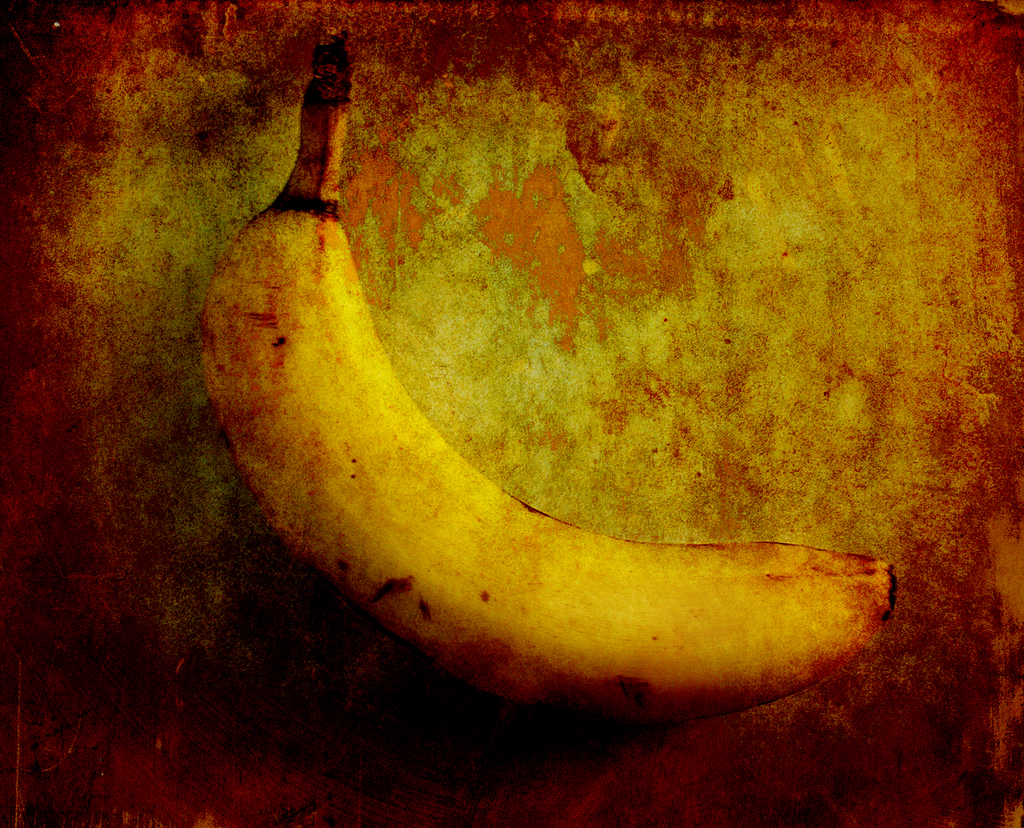Banana: (223, 53, 928, 750)
